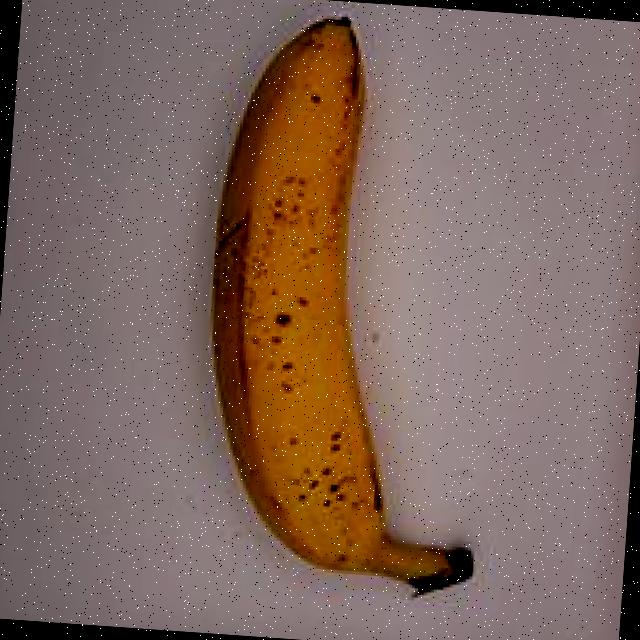Overripe: (153, 0, 533, 614)
